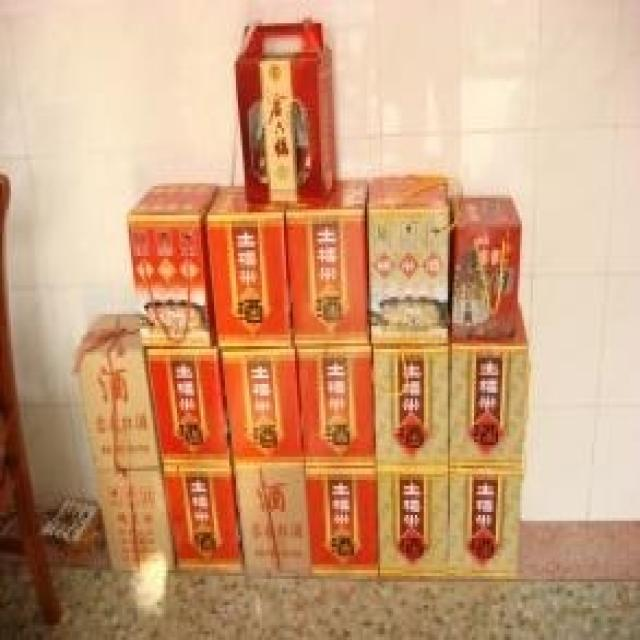box: (236, 23, 336, 207), (205, 186, 293, 352), (286, 177, 369, 352), (129, 183, 216, 346), (367, 177, 450, 343), (76, 311, 162, 465), (450, 300, 526, 468), (146, 346, 232, 465), (452, 195, 522, 337), (221, 349, 306, 465), (297, 343, 376, 465), (374, 343, 450, 468), (234, 463, 312, 579), (164, 465, 245, 576), (92, 465, 177, 570), (448, 465, 524, 582), (376, 465, 450, 582), (306, 465, 378, 582)
